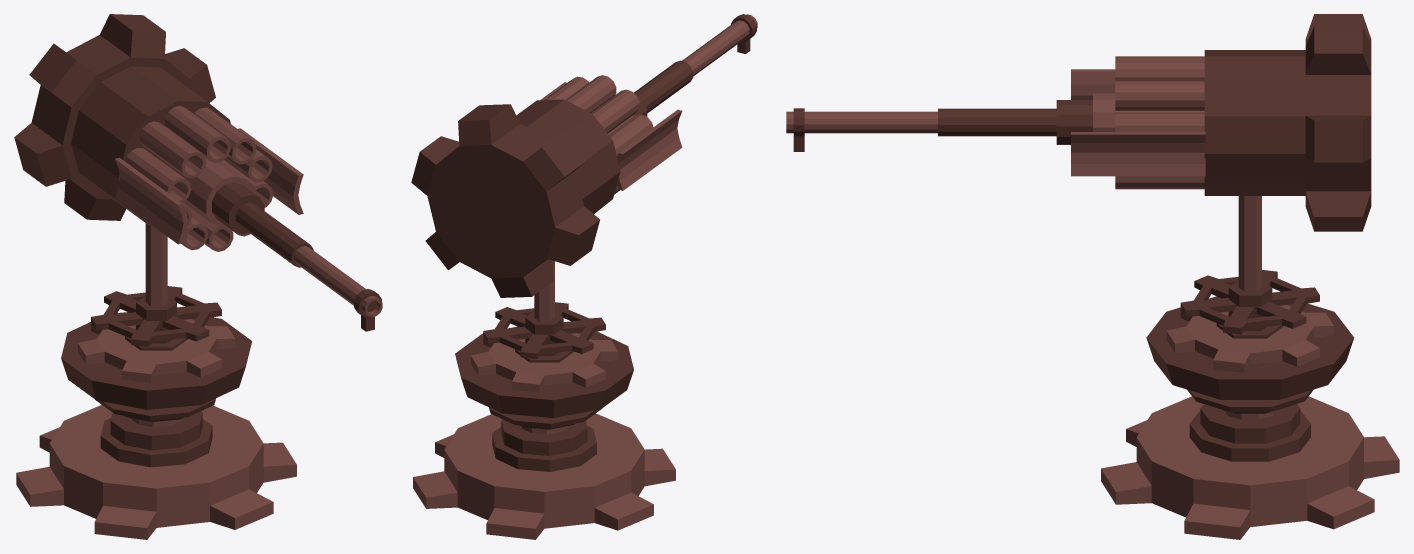
The model's file is Gun_5.glb.
The picture shows the model from 3 angles, left to right: view 1: azimuth 30°, elevation 25°; view 2: azimuth 150°, elevation 25°; view 3: azimuth 270°, elevation 25°; orthographic projection. The views are drawn at different scales.
Parts seen in each view (by area): view 1: Gun_5_Gun, Gun_5_Base, Gun_5_Mid; view 2: Gun_5_Gun, Gun_5_Base, Gun_5_Mid; view 3: Gun_5_Gun, Gun_5_Base, Gun_5_Mid.
Part boxes in pixels (box(x1,y1,x2,y2)): Gun_5_Gun: box(14, 14, 382, 331); Gun_5_Base: box(16, 312, 296, 539); Gun_5_Mid: box(78, 223, 235, 382); Gun_5_Gun: box(411, 14, 757, 297); Gun_5_Base: box(413, 326, 675, 539); Gun_5_Mid: box(471, 260, 618, 392); Gun_5_Gun: box(786, 14, 1371, 231); Gun_5_Base: box(1101, 296, 1399, 539); Gun_5_Mid: box(1166, 196, 1333, 372).
Size of the model in its own units: 1.38 by 2.32 by 2.83.
